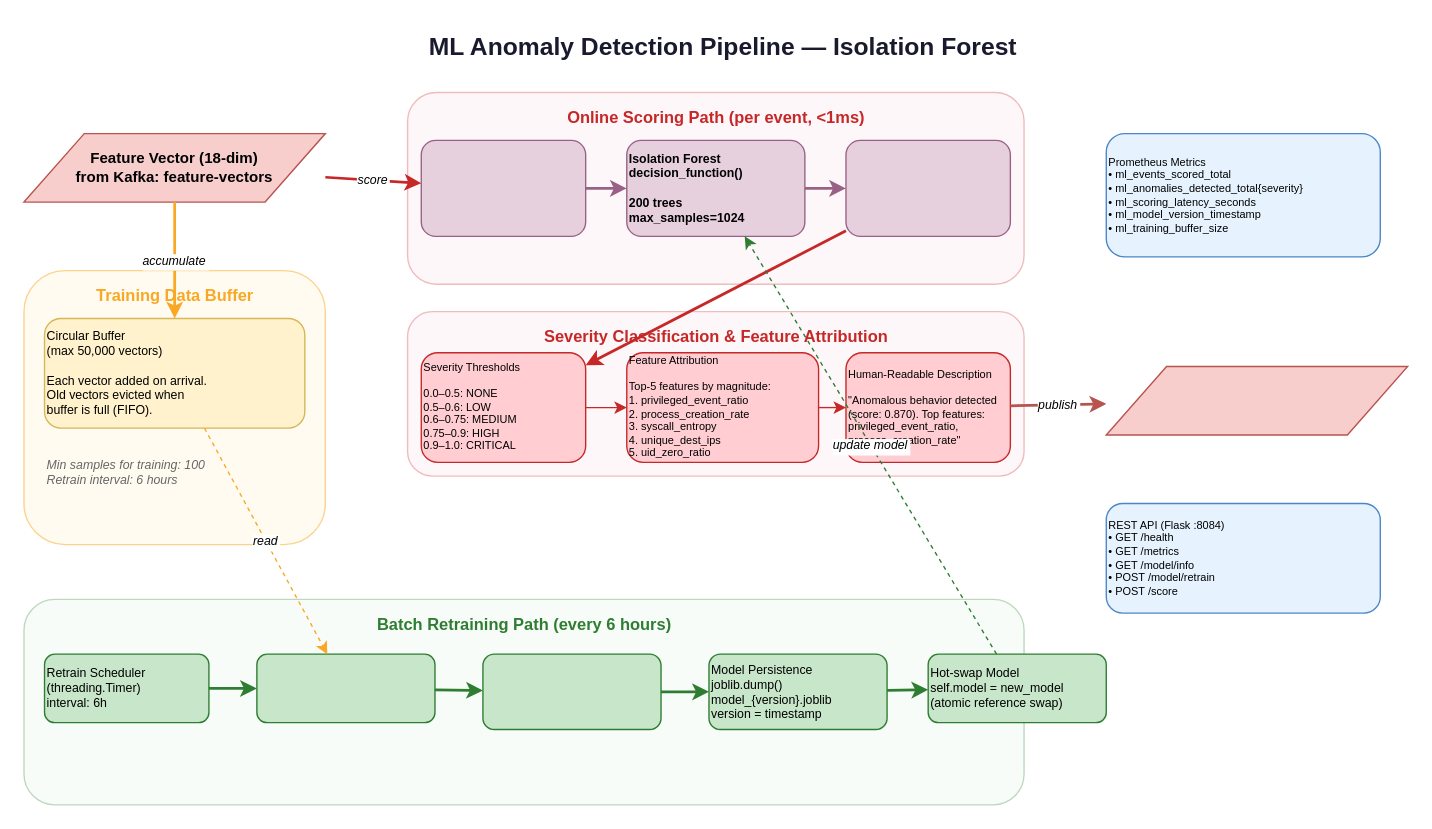
Image size: 1432x829. Some labels were removed from this diagram. The shapes that lost their labels are listed below. From the top down, each one's centre as x and y in pixels, then its label:
At pixel 503 187: "Preprocessing • NaN → 0 • Inf → 0 • Reshape (1, 18)".
At pixel 927 187: "Score Normalization raw → [0, 1] score = max(0, min(1, -raw_score + 0.5))".
At pixel 1256 400: "Anomaly Result → Kafka: anomaly-results".
At pixel 345 688: "Extract Training Data from circular buffer (thread-safe lock)".
At pixel 571 691: "IsolationForest.fit() contamination=0.05 n_estimators=200 n_jobs=-1".
